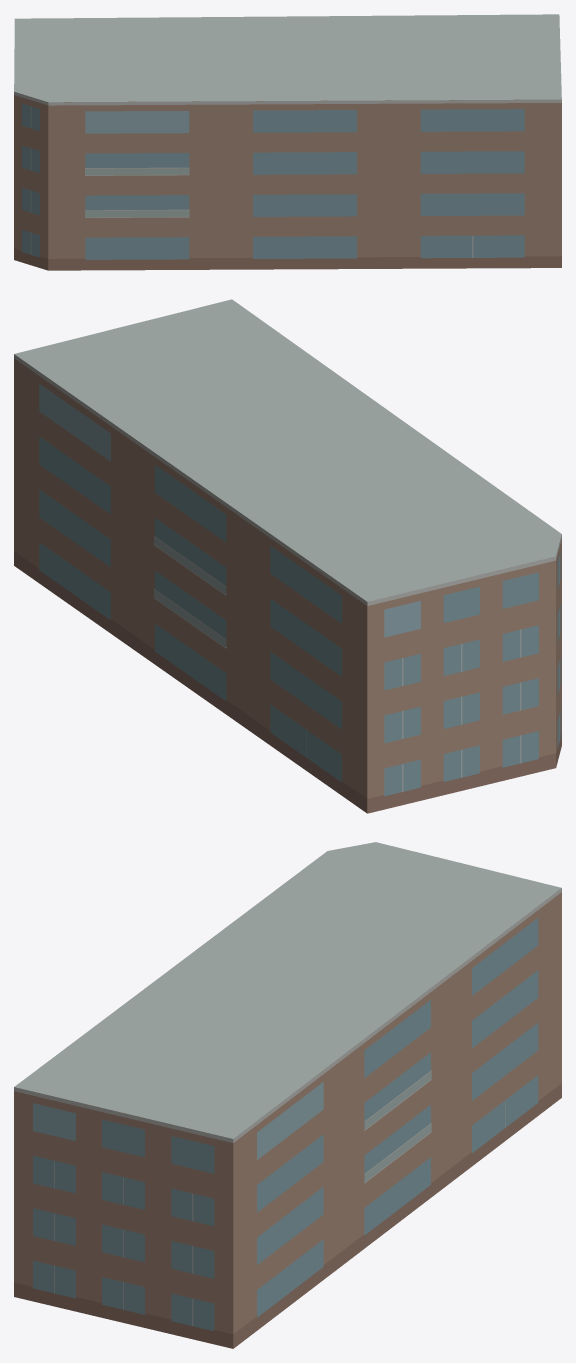
Rendered from survey-upis-32870606.glb.
3 views of the same model, one above another, from view 1: azimuth 30°, elevation 25°; view 2: azimuth 150°, elevation 25°; view 3: azimuth 270°, elevation 25° (orthographic). The views are drawn at different scales.
Parts seen in each view (by area): view 1: survey-upis-32870606.tmp; view 2: survey-upis-32870606.tmp; view 3: survey-upis-32870606.tmp.
Part boxes in pixels (x1,y1,x2,y2): survey-upis-32870606.tmp: [14, 14, 561, 270]; survey-upis-32870606.tmp: [14, 299, 561, 813]; survey-upis-32870606.tmp: [14, 842, 561, 1348].
Size of the model in its own units: 37.63 by 12.4 by 29.34.
